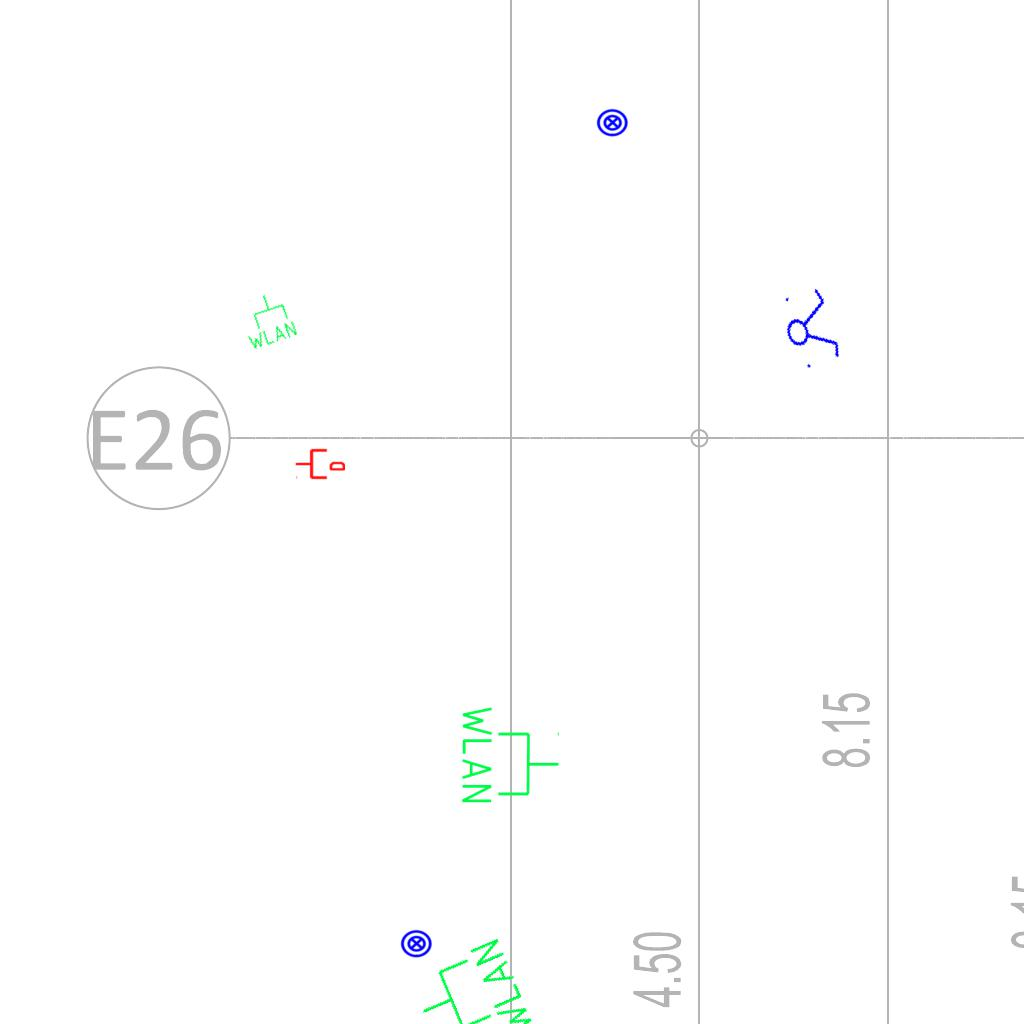Datenanschluss_einfach: (295, 447, 345, 481)
Serienschalter: (774, 280, 846, 376)
Taster_beleuchtet: (400, 927, 433, 960), (596, 106, 629, 139)
WLAN: (403, 932, 541, 1024), (458, 702, 562, 807), (233, 286, 301, 354)
